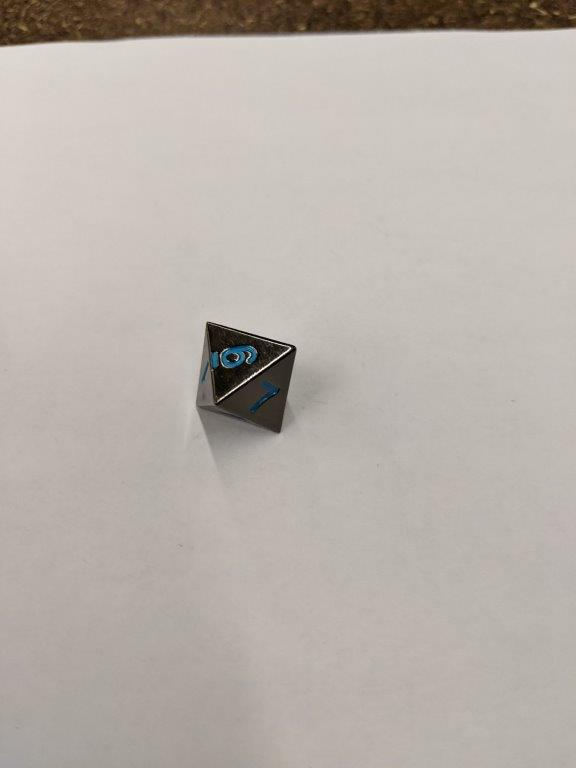d8-6: (189, 318, 298, 435)
